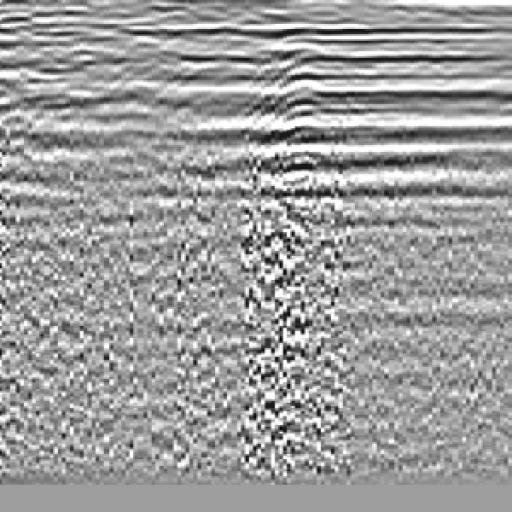non-metallic: (202, 18, 399, 246)
